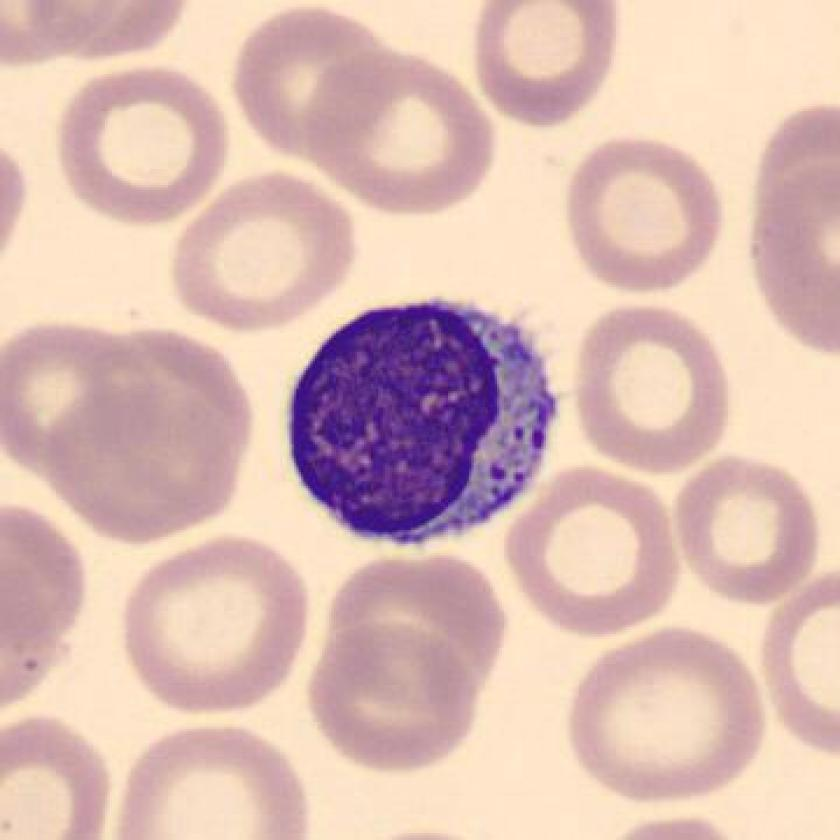lymphocyte: (274, 281, 573, 575)
